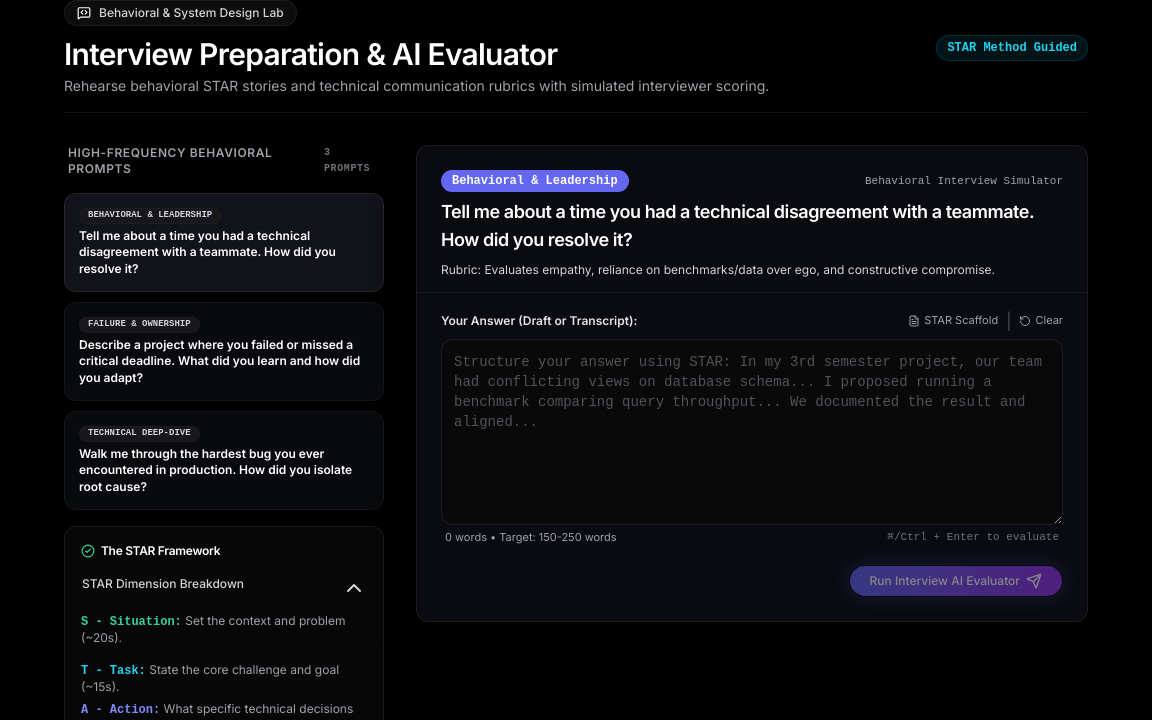
InterviewView - Behavioral STAR Evaluator › submits answer and renders STAR evaluation criteria feedback
The image size is (1152, 720).
Replace the text in the text box named "your answer draft or transcript" with "In my 3rd semester database project, our team debated PostgreSQL vs MongoDB. I set up a local benchmark to test read/write latency under concurrent connections. The results proved Postgres was 40% fas" at (752, 432), box [441, 338, 1063, 524]
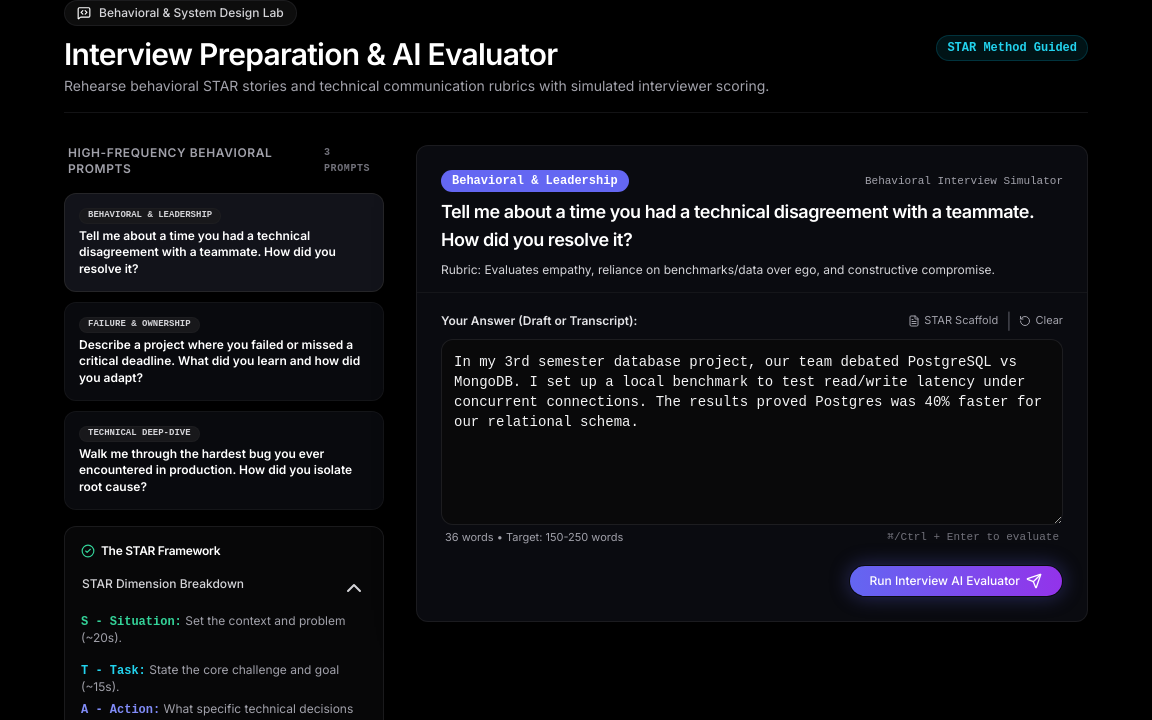
Now the button "Run Interview AI Evaluator" is enabled
Click the button "Run Interview AI Evaluator".
click(956, 581)  # box [849, 565, 1063, 597]
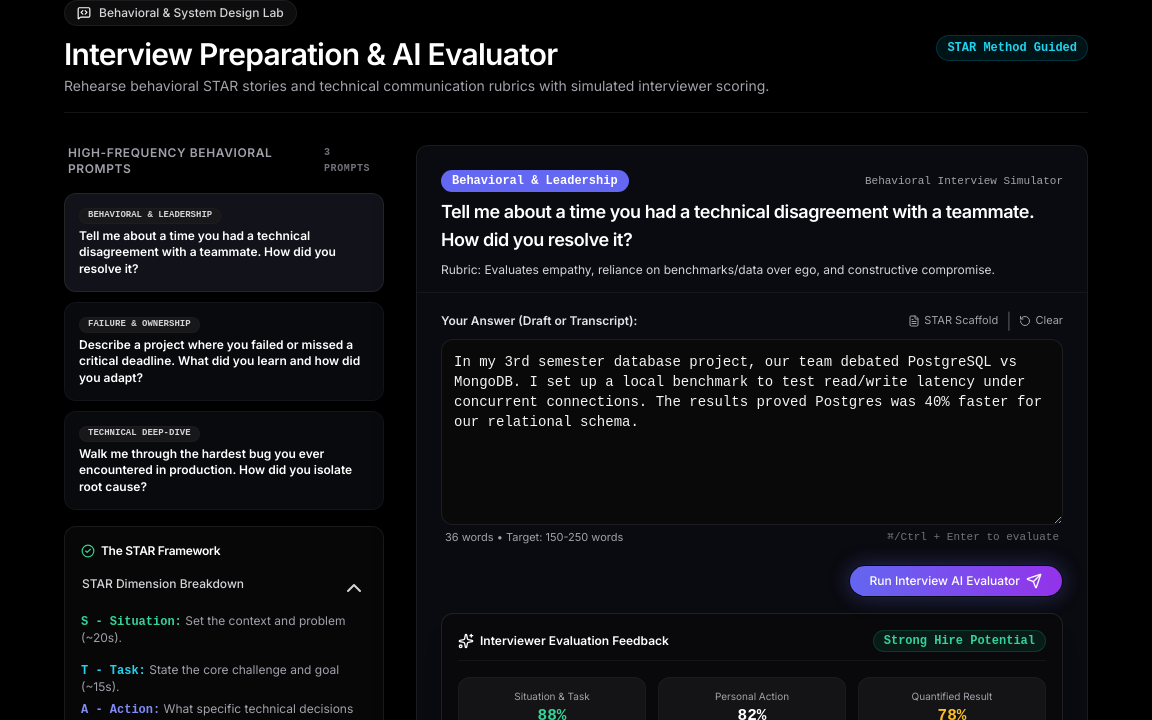
Now the text "Interviewer Evaluation Feedback" is shown, box [458, 633, 669, 649]
Now the text "Situation & Task" is shown, box [514, 690, 590, 702]
Now the text "Personal Action" is shown, box [715, 690, 789, 702]
